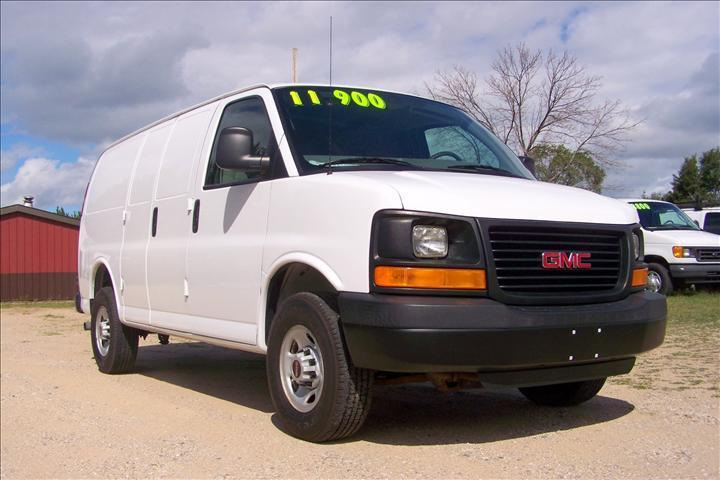GMC: (532, 245, 602, 276)
